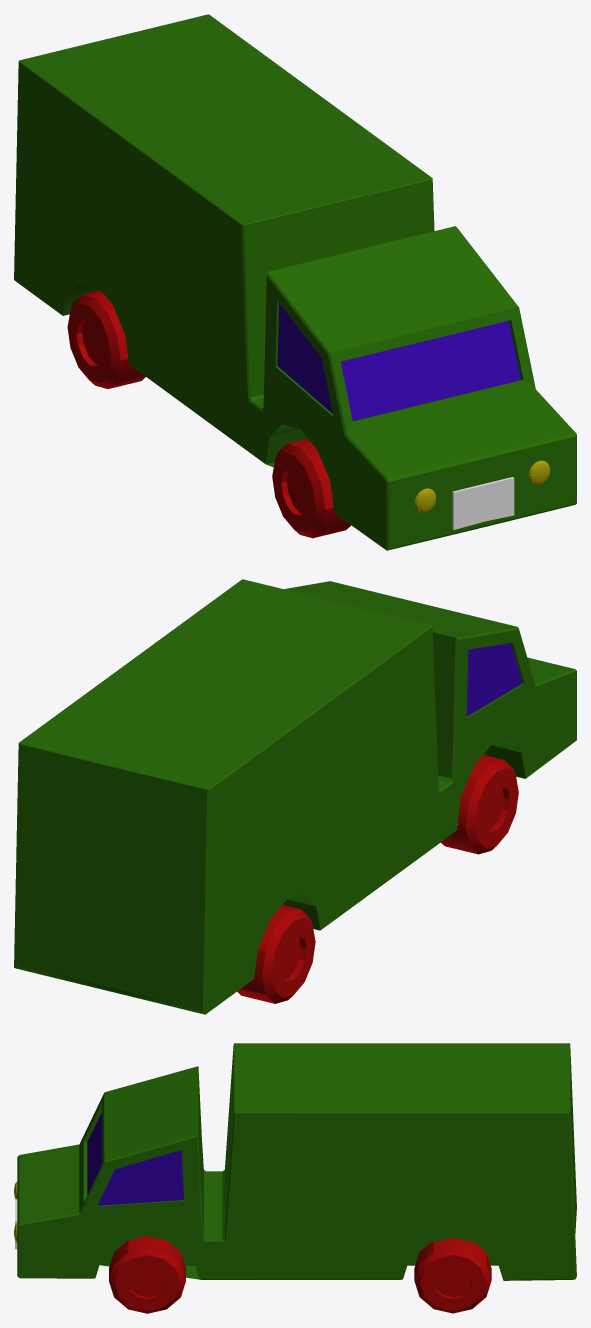
Rendered from Big_Truck_FIX.fbx.
3 renders of one model, top to bottom at view 1: azimuth 30°, elevation 25°; view 2: azimuth 150°, elevation 25°; view 3: azimuth 270°, elevation 25°, orthographic. The views are drawn at different scales.
Visible parts, largest first — view 1: Main_Body, Windows, Front_Wheels, Back_Wheels, Front_Grill, Lights; view 2: Main_Body, Front_Wheels, Back_Wheels, Windows; view 3: Main_Body, Front_Wheels, Back_Wheels, Windows.
Part boxes in pixels (x1,y1,x2,y2): Main_Body: (14,14,576,550); Windows: (277,303,520,420); Front_Wheels: (272,438,350,538); Back_Wheels: (67,290,145,388); Front_Grill: (452,477,514,529); Lights: (414,460,550,512); Main_Body: (14,579,576,1014); Front_Wheels: (441,754,518,854); Back_Wheels: (237,905,315,1003); Windows: (466,643,522,716); Main_Body: (17,1043,576,1280); Front_Wheels: (109,1236,185,1313); Back_Wheels: (414,1238,491,1313); Windows: (87,1112,183,1205).
Bounding box in the file's own units: 1.08 × 1.35 × 3.43.
